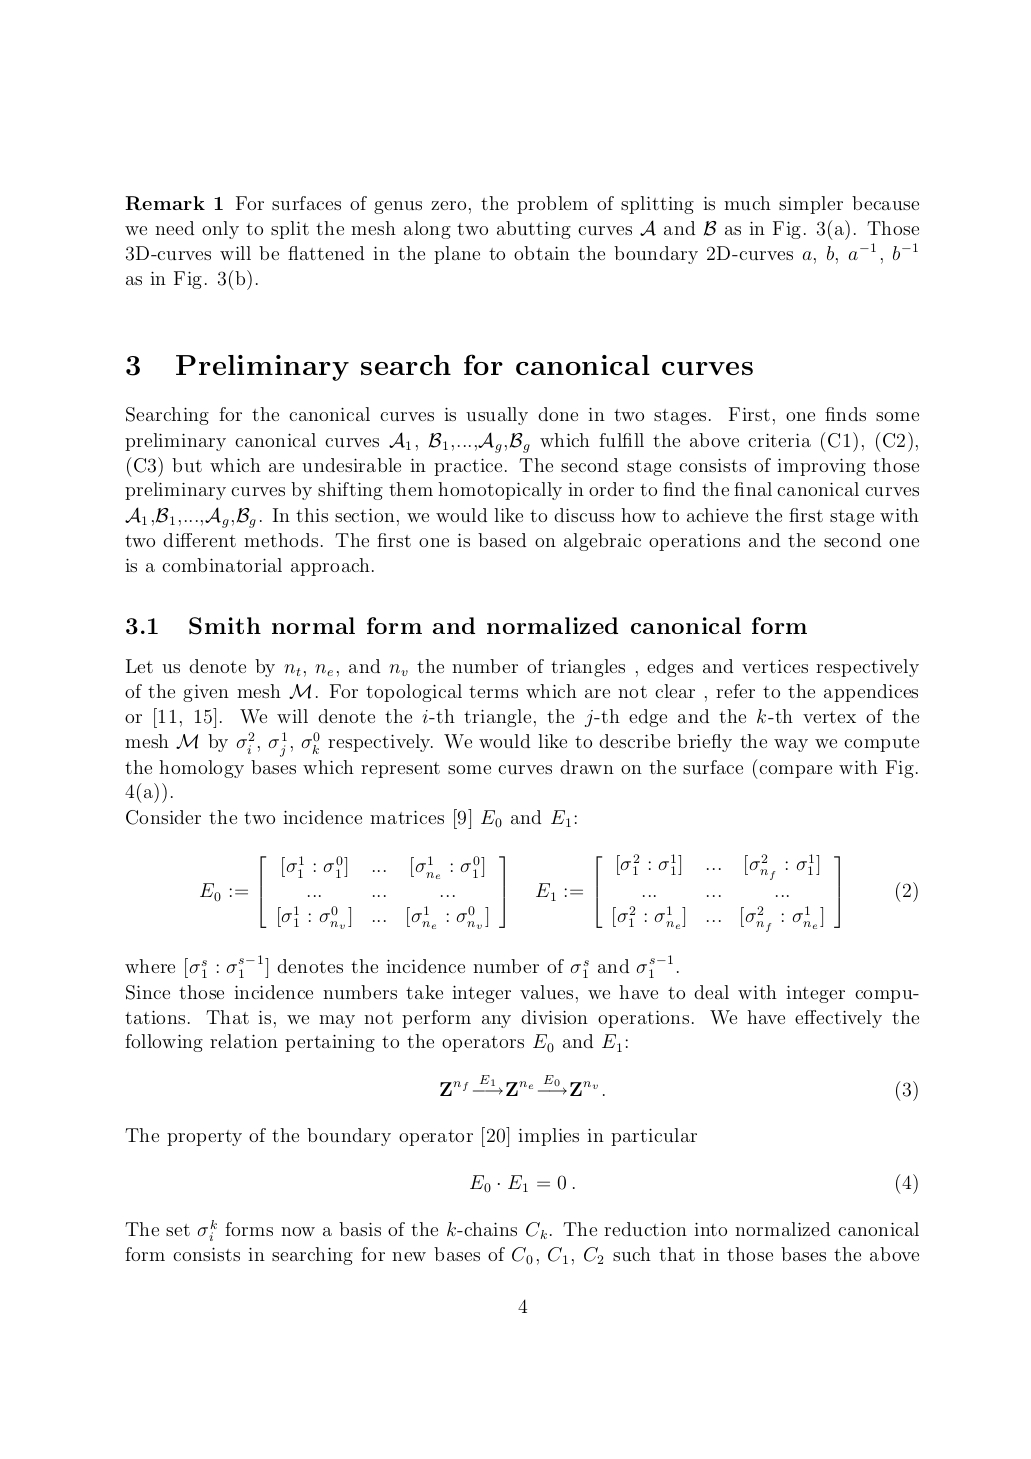formula: (200, 852, 917, 933), (440, 1074, 917, 1101), (470, 1173, 917, 1194)
